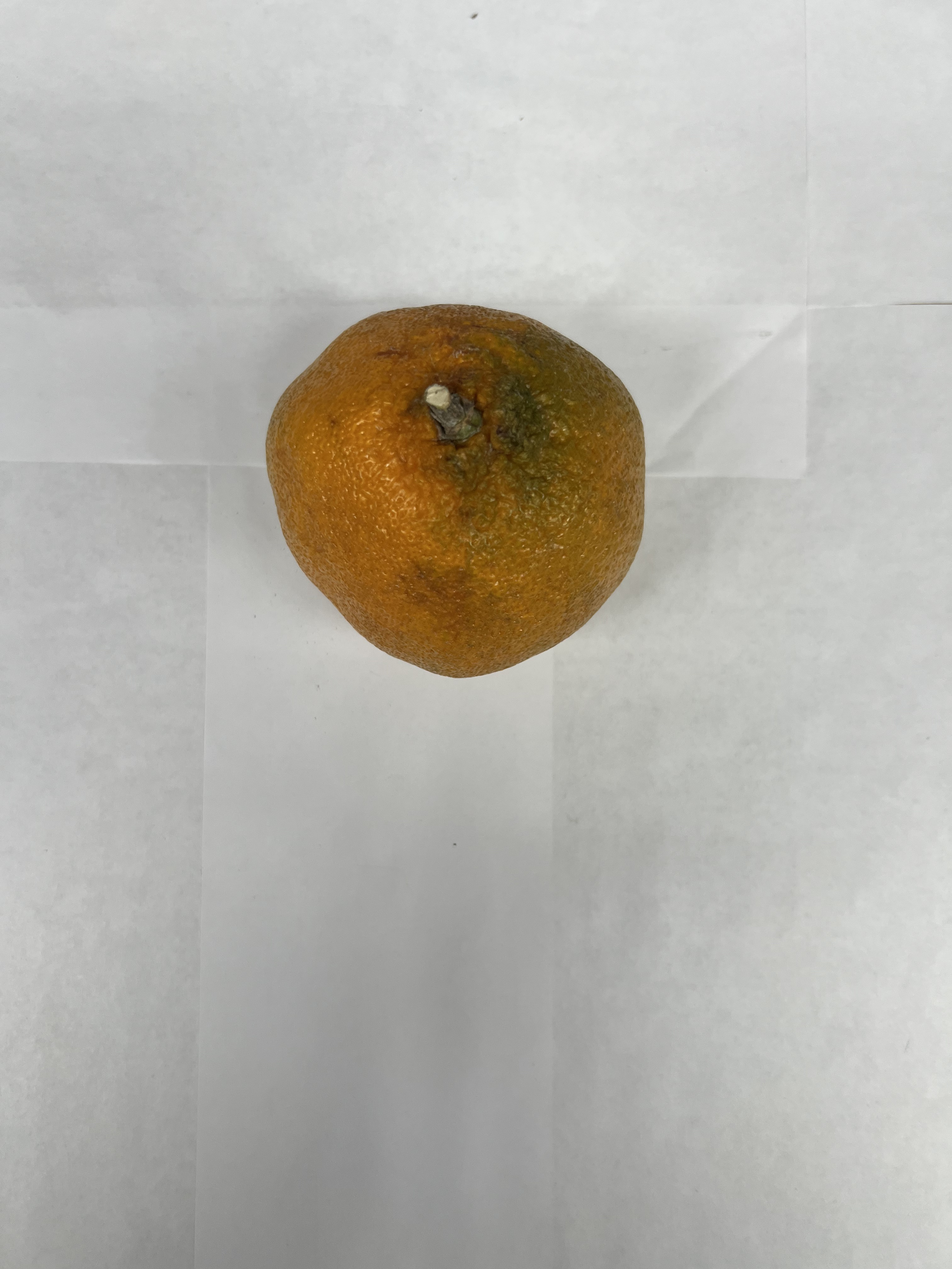discoloration: (438, 303, 648, 676)
